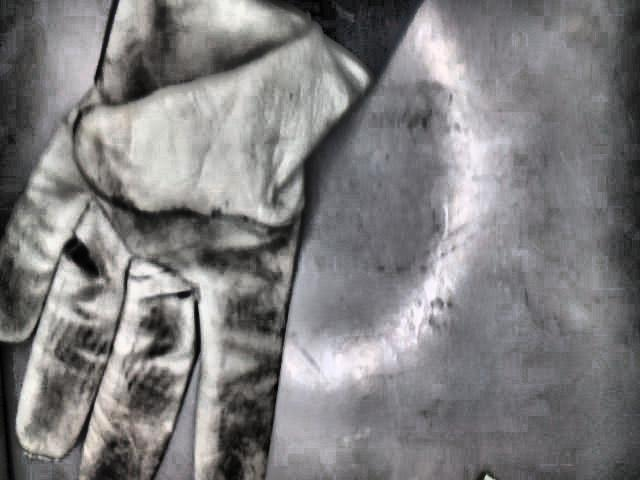Almennt: (0, 0, 423, 480)
